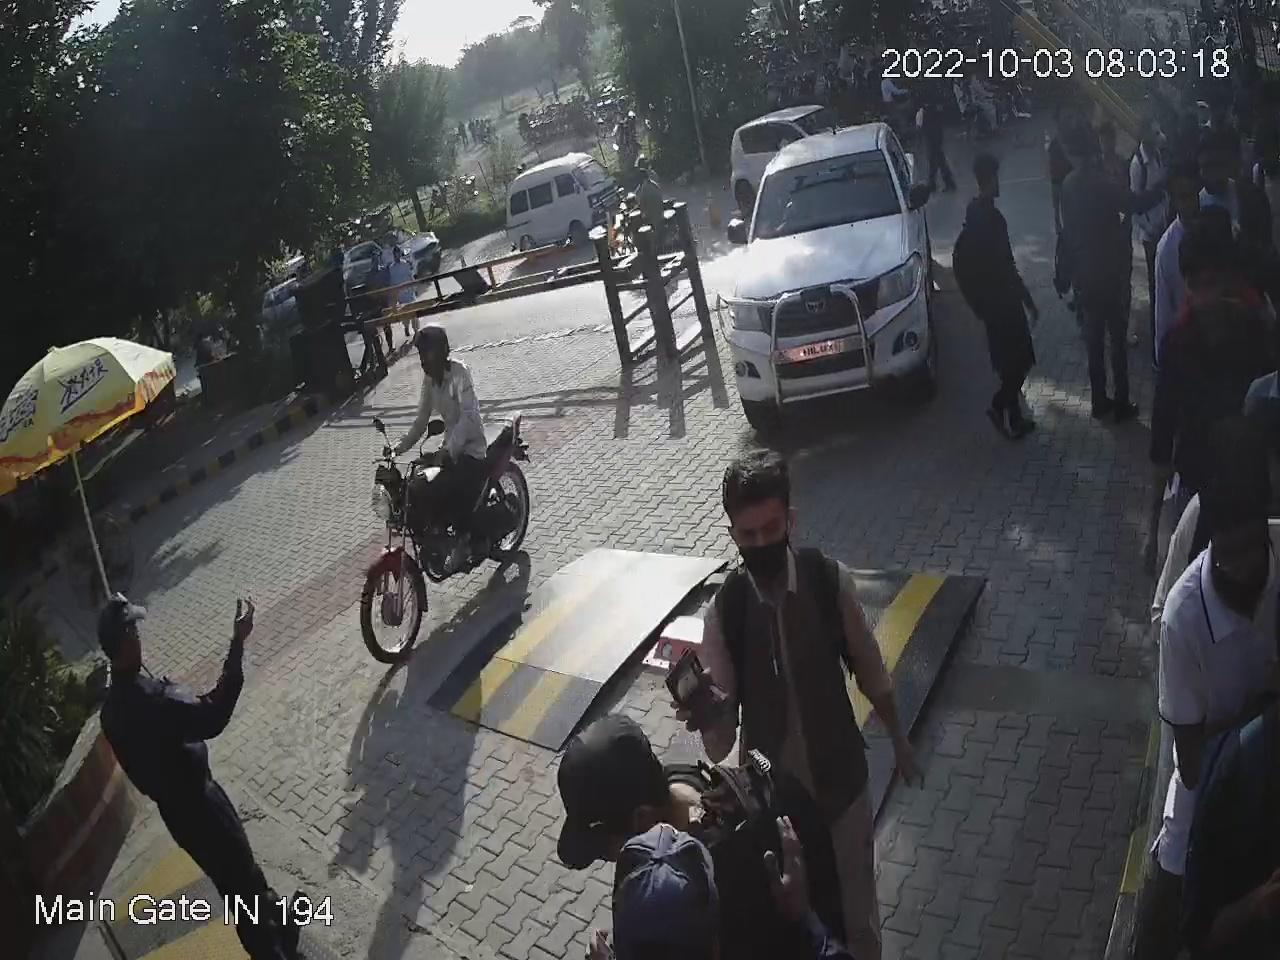windshield: (741, 142, 906, 246)
